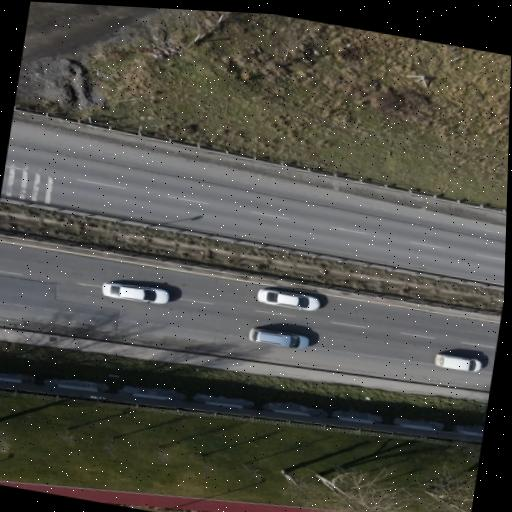car: (102, 283, 168, 304), (258, 289, 319, 311), (248, 329, 307, 349), (434, 354, 480, 371)
